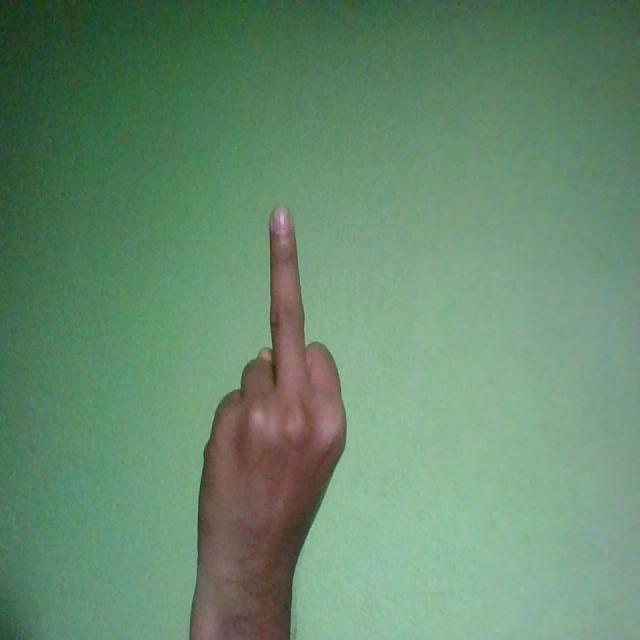Middle Finger: (196, 206, 347, 612)
